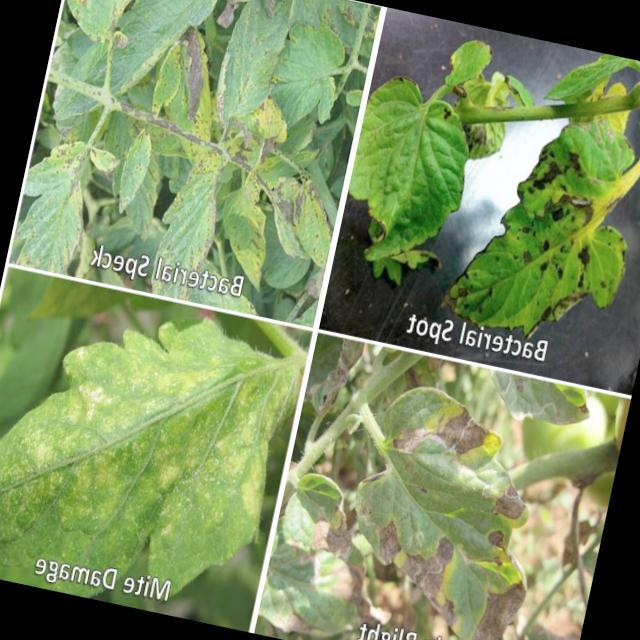Tomato Early blight leaf: (319, 375, 584, 640)
Tomato bacterial spot leaf: (432, 94, 640, 375), (326, 60, 492, 314), (11, 115, 126, 278), (248, 5, 366, 140), (151, 134, 239, 302), (201, 0, 296, 148), (204, 150, 288, 308), (252, 170, 336, 282), (143, 28, 197, 128), (52, 0, 150, 55)
Tomato spider mites leaf: (0, 292, 299, 613)
